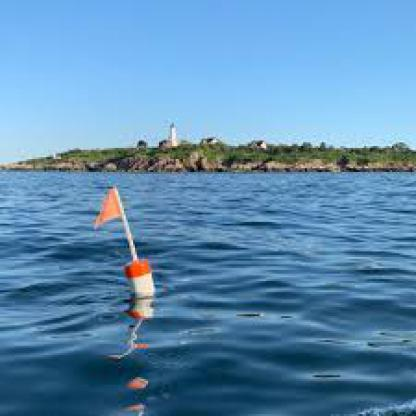buoy: (83, 181, 168, 307)
